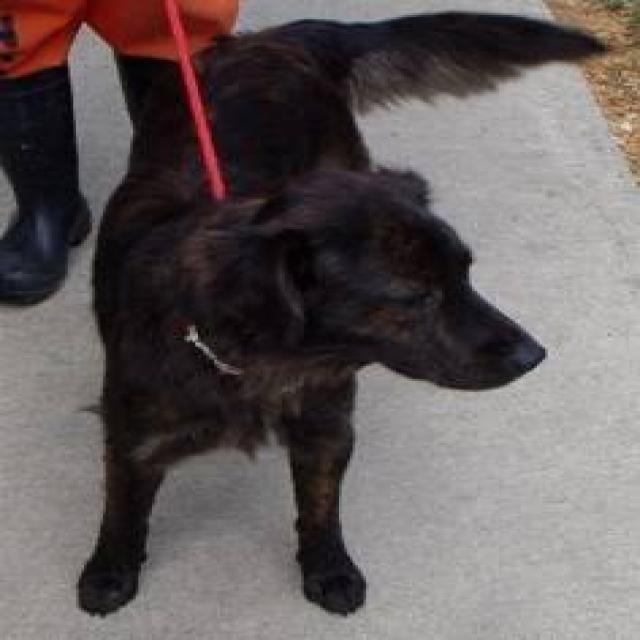dog: (73, 6, 608, 618)
